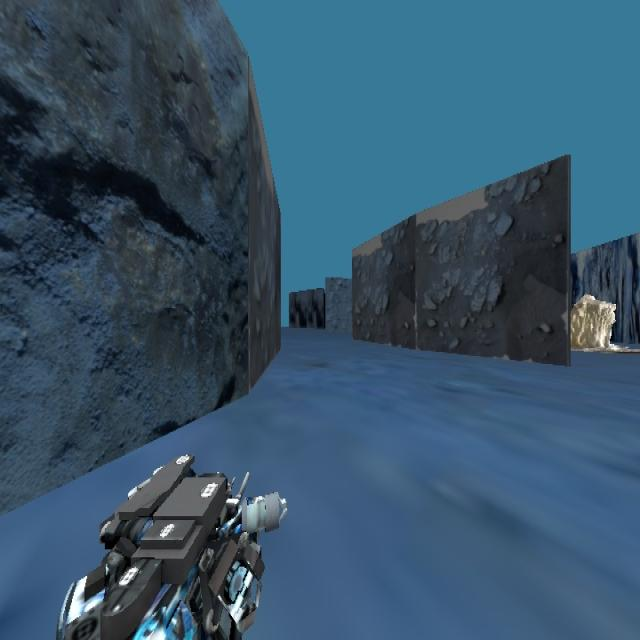Ice: (565, 274, 632, 356)
